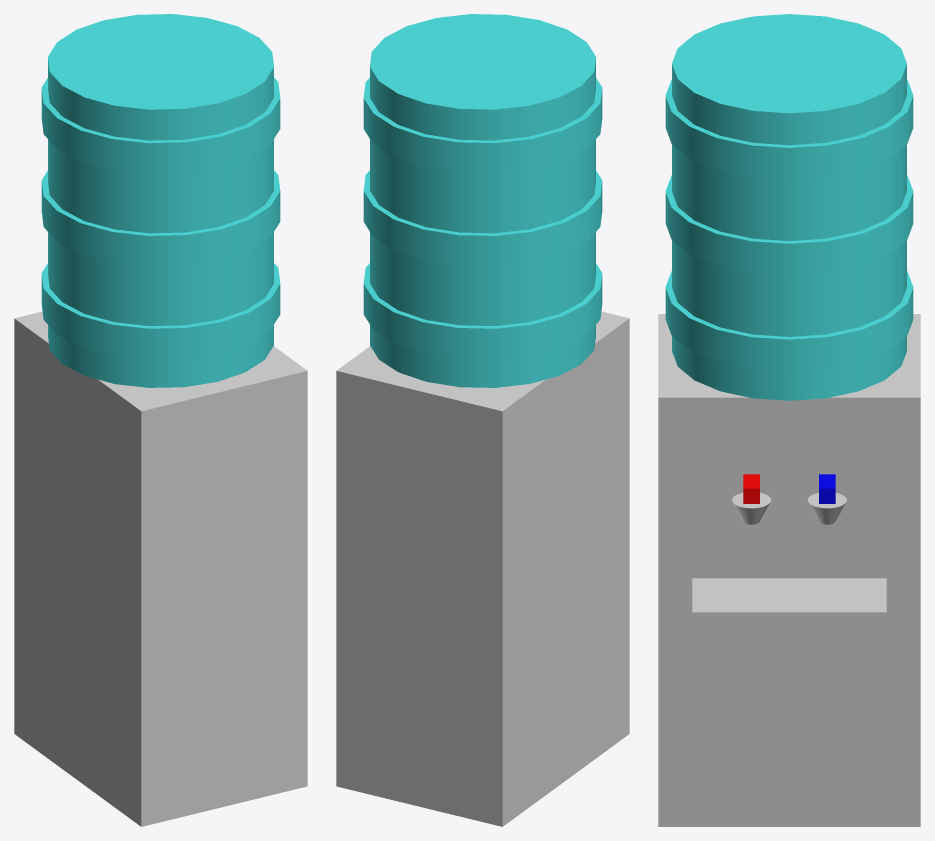
File: LowPolyCooler.fbx
The picture shows the model from 3 angles, left to right: view 1: azimuth 30°, elevation 25°; view 2: azimuth 150°, elevation 25°; view 3: azimuth 270°, elevation 25°; orthographic projection. The views are drawn at different scales.
Visible parts, largest first — view 1: WaterCooler; view 2: WaterCooler; view 3: WaterCooler.
Part boxes in pixels (box(x1,y1,x2,y2)): WaterCooler: box(14, 14, 307, 826); WaterCooler: box(336, 14, 629, 826); WaterCooler: box(658, 14, 920, 826).
Bounding box in the file's own units: 6.84 × 21.96 × 7.24.
